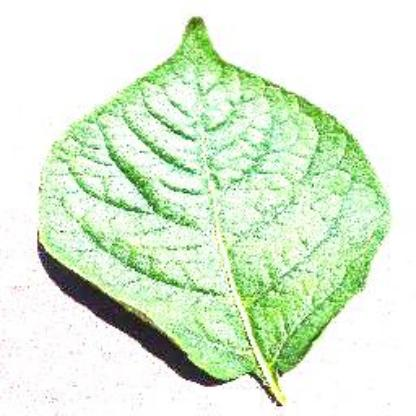Healthy-plant: (24, 12, 388, 402)
